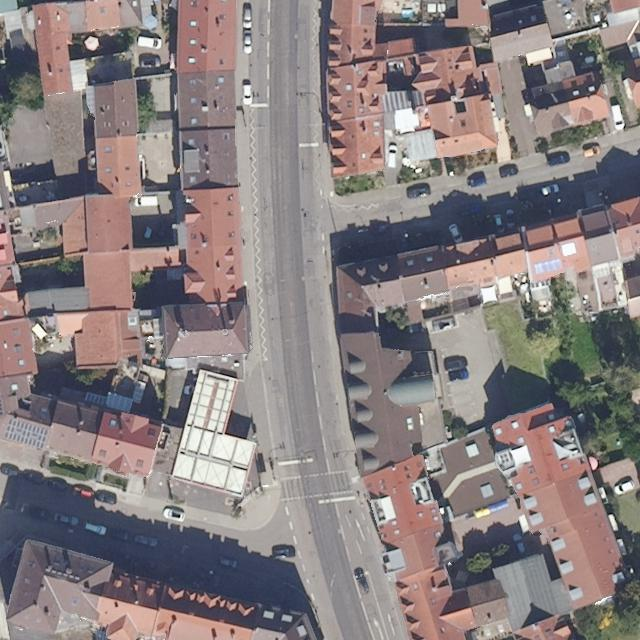PV: (3, 416, 51, 451), (533, 258, 563, 275)
